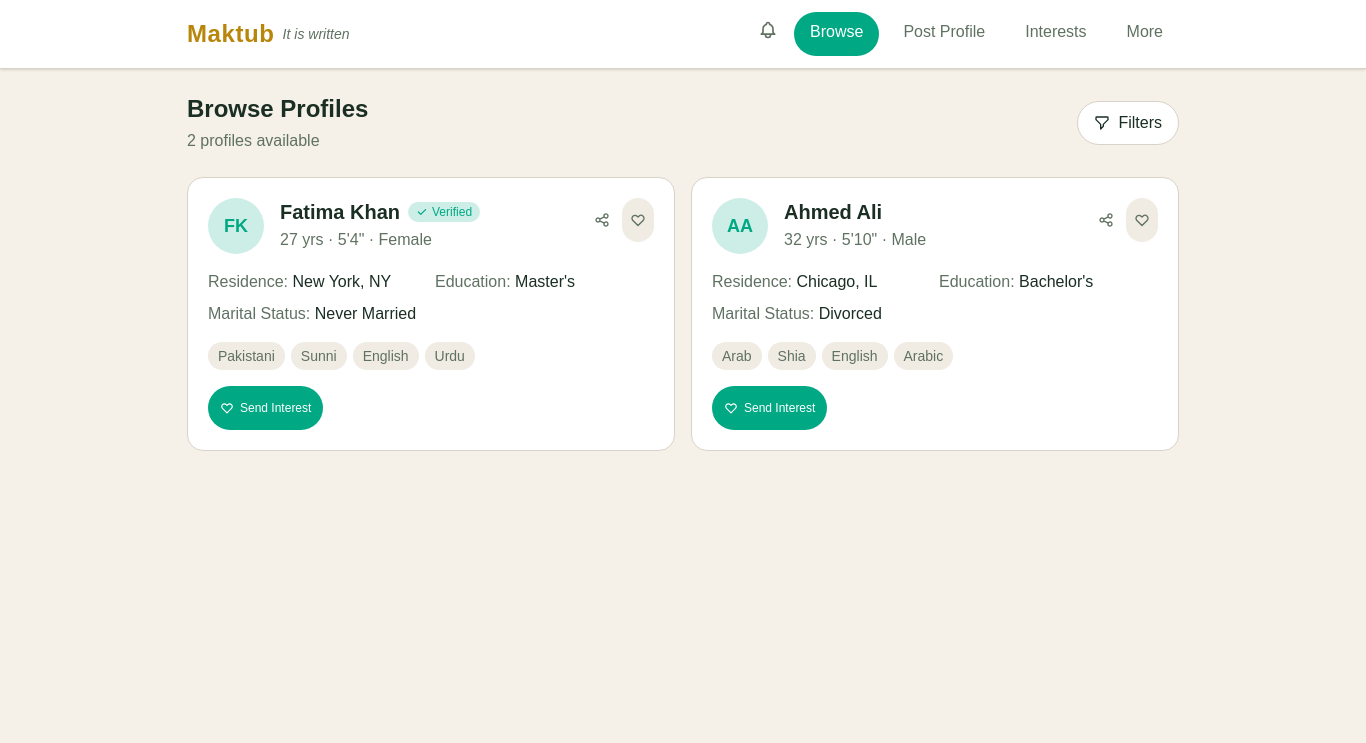
Test: ProfilesPage › toggles filter bar visibility
This screenshot has width=1366, height=743.
Expected: the text "Gender" is not shown
# Click the Filters button
Click the button "Filters": coordinates (1128, 123) [1077, 101, 1179, 145]
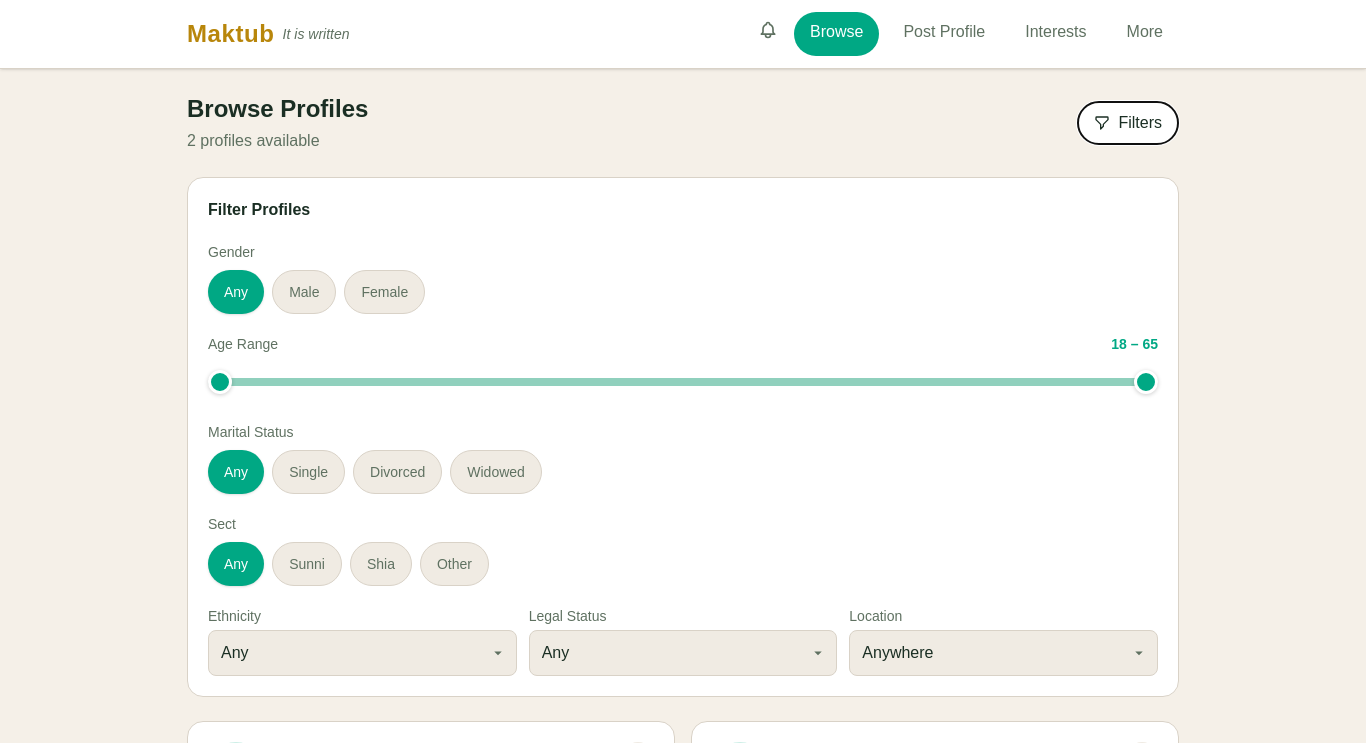
Now the text "Gender" is shown, box [208, 244, 255, 260]
